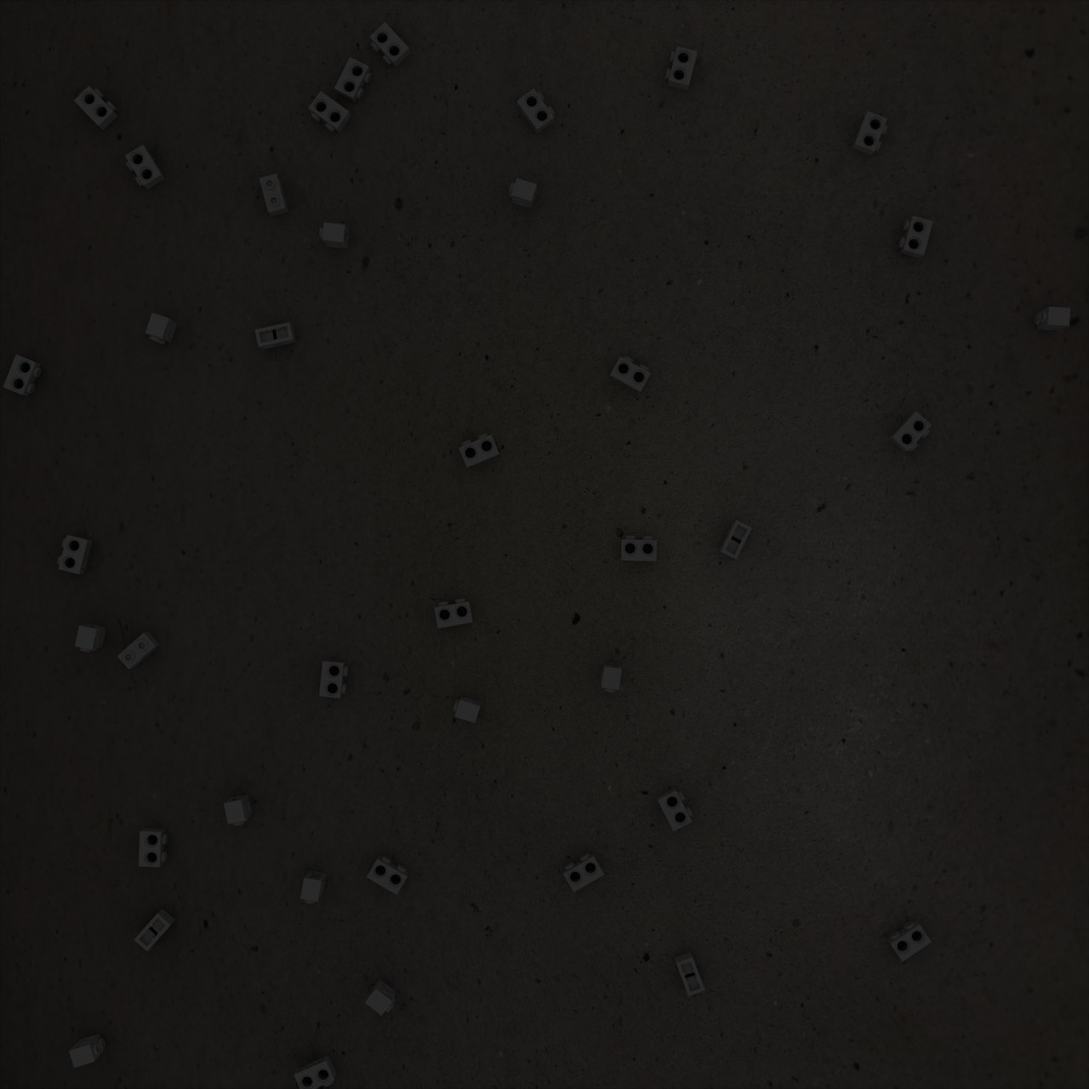lego: (74, 86, 118, 131), (887, 920, 932, 962), (370, 22, 411, 68), (125, 144, 166, 190), (134, 908, 176, 952), (308, 91, 351, 133), (889, 411, 932, 452), (517, 88, 555, 134), (334, 57, 372, 103), (366, 856, 409, 895), (851, 111, 888, 156), (3, 354, 41, 397), (563, 853, 604, 892), (609, 356, 651, 394), (117, 632, 160, 669), (656, 788, 693, 831), (665, 46, 698, 91), (294, 1055, 337, 1089), (459, 433, 500, 468), (899, 216, 933, 258), (674, 951, 705, 997), (58, 535, 93, 574), (718, 520, 752, 559), (259, 174, 289, 217), (69, 1033, 105, 1068), (434, 598, 473, 629), (255, 322, 297, 350), (138, 828, 168, 867), (365, 979, 396, 1016), (319, 660, 348, 698), (145, 313, 177, 345), (75, 623, 107, 652), (620, 536, 657, 561), (300, 870, 327, 904), (224, 794, 252, 826), (1034, 307, 1071, 331), (509, 178, 537, 209), (319, 222, 350, 249), (453, 696, 482, 723), (600, 664, 622, 693)
